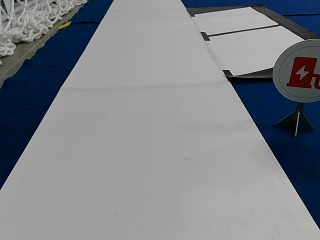battery: (273, 38, 320, 103)
